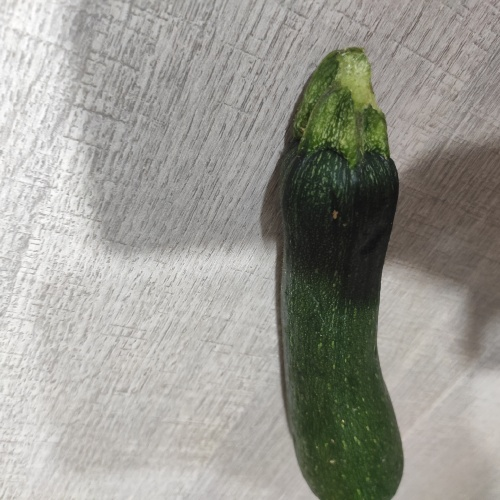zucchine: (273, 43, 410, 495)
